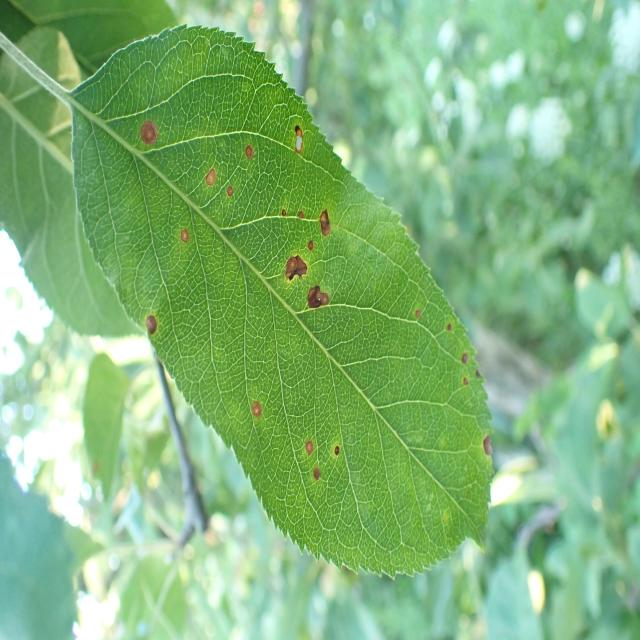Black Rot: (287, 119, 314, 182), (138, 102, 165, 160), (306, 278, 334, 328), (274, 247, 312, 283), (322, 430, 349, 470), (316, 203, 338, 250), (470, 423, 500, 457), (169, 222, 193, 261), (241, 390, 267, 426), (136, 309, 168, 338), (201, 155, 220, 198), (239, 136, 261, 169), (298, 430, 318, 465), (308, 462, 324, 501), (224, 175, 238, 207)
